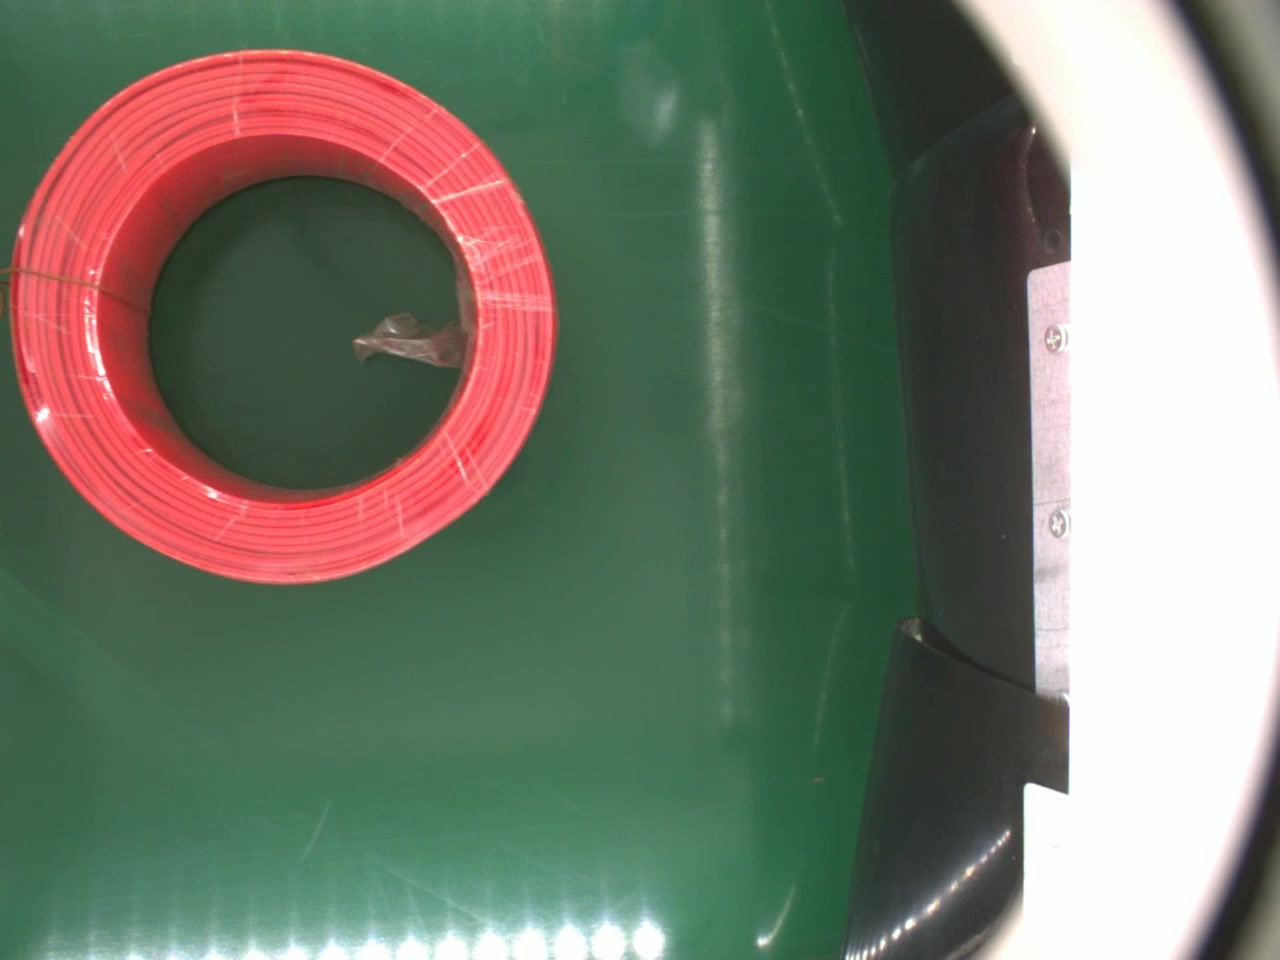red: (3, 46, 555, 590)
